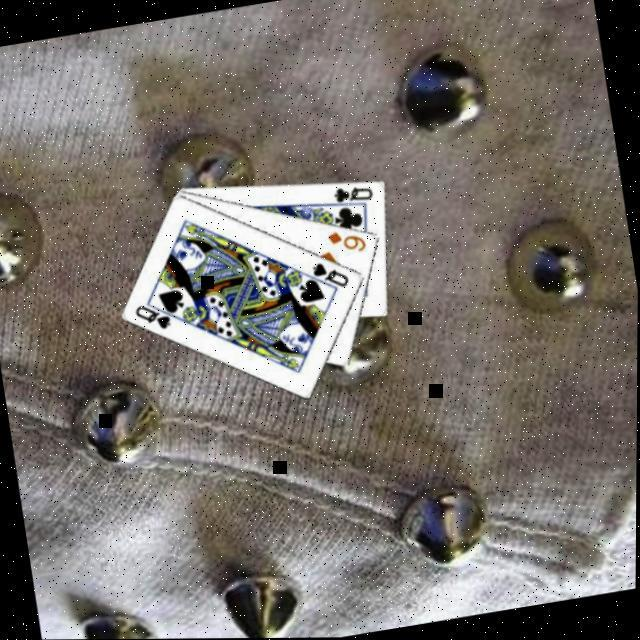6D: (326, 226, 372, 262)
QC: (332, 181, 378, 209)
QS: (310, 257, 356, 296), (134, 300, 178, 338)
